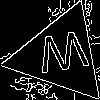W: (35, 30, 93, 83)
